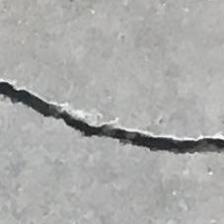Crack: (0, 79, 224, 184)
